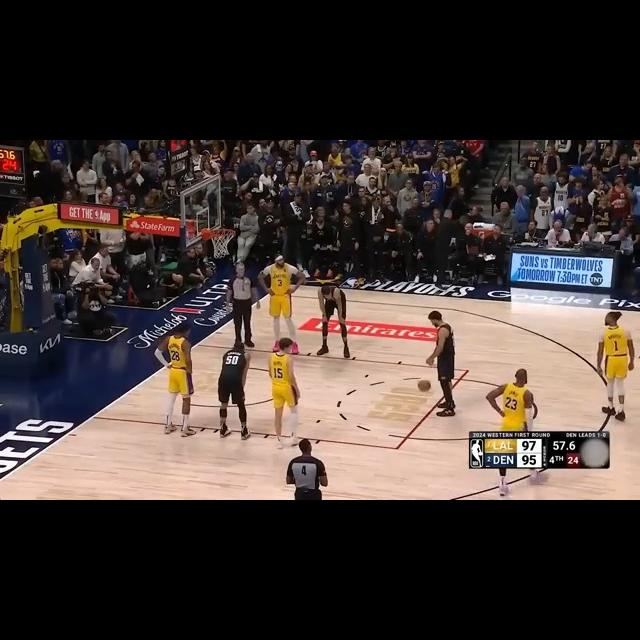basketball: (417, 379, 430, 391)
hoop: (208, 221, 239, 260)
